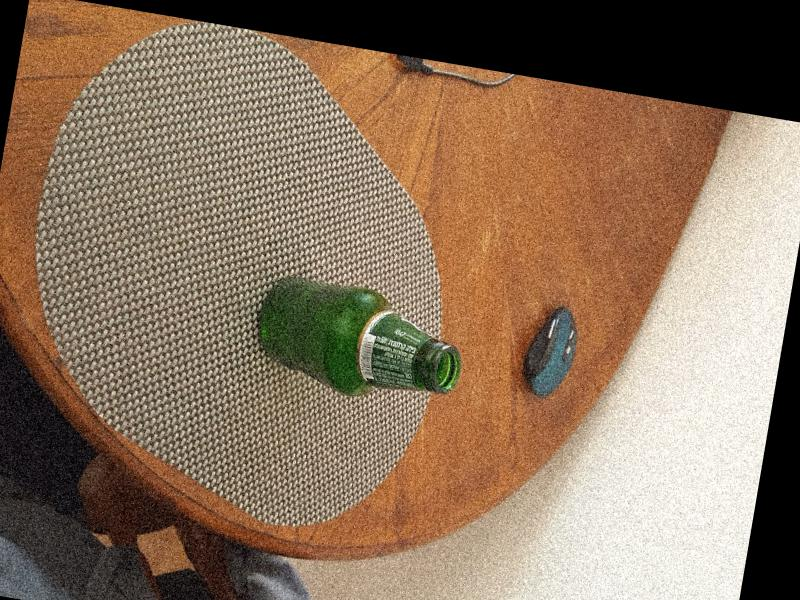Beer: (248, 266, 473, 416)
